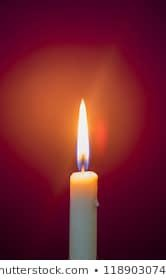fire: (74, 93, 92, 170)
